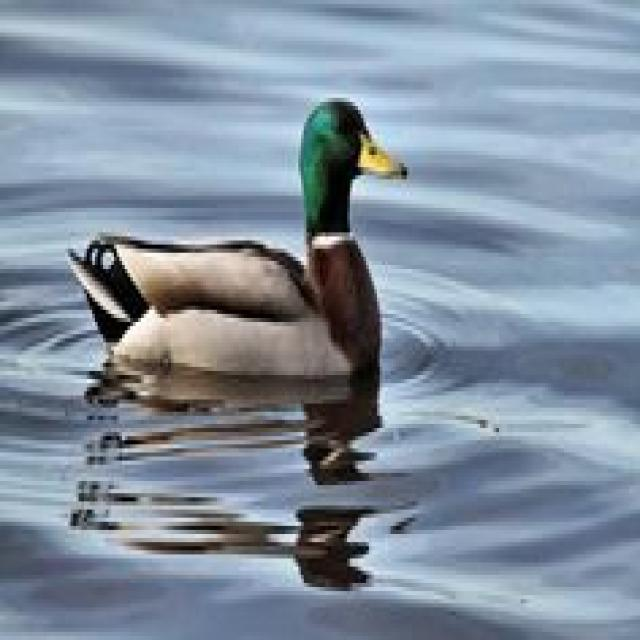Herbivorous: (68, 98, 409, 444)
